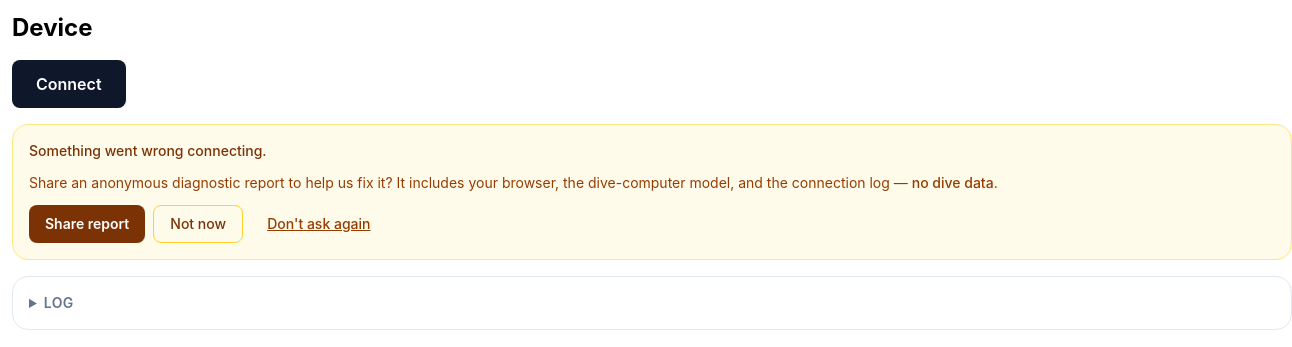
Test: ConnectScreen diagnostics affordances › does not re-show the card on remount after "Not now"
Click the button "Not now" at (198, 224), box top-left (153, 205), bottom-right (243, 243)
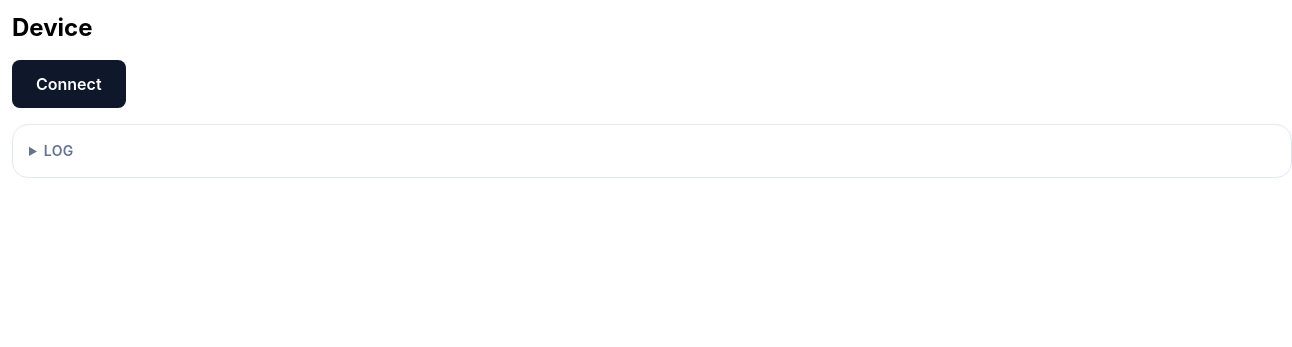
Now the text "Something went wrong connecting." is gone
